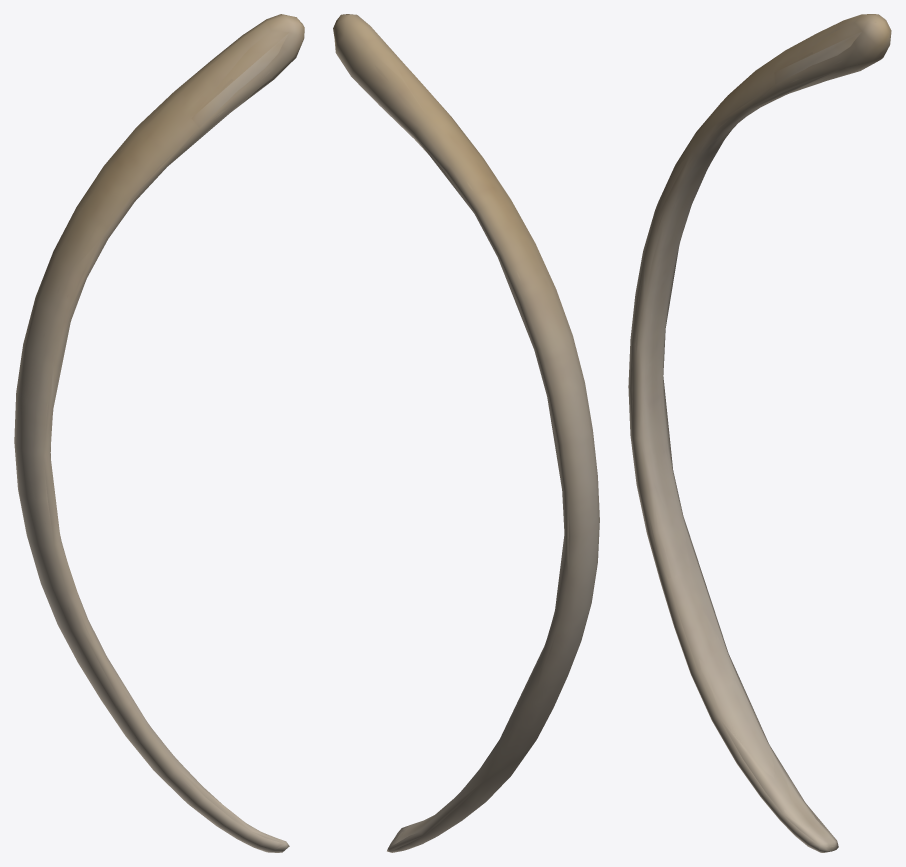
File: Rib R03.fbx
The picture shows the model from 3 angles, left to right: view 1: azimuth 30°, elevation 25°; view 2: azimuth 150°, elevation 25°; view 3: azimuth 330°, elevation 25°; orthographic projection. The views are drawn at different scales.
Parts seen in each view (by area): view 1: Rib R03, Rib R03 low, Rib R03 high; view 2: Rib R03, Rib R03 low, Rib R03 high; view 3: Rib R03, Rib R03 low, Rib R03 high.
Boxes of the visible parts, bbox=[...] form: Rib R03: bbox=[14, 14, 304, 852]; Rib R03 low: bbox=[14, 16, 303, 851]; Rib R03 high: bbox=[21, 19, 293, 852]; Rib R03: bbox=[333, 14, 599, 852]; Rib R03 low: bbox=[334, 14, 599, 852]; Rib R03 high: bbox=[335, 31, 589, 841]; Rib R03: bbox=[628, 14, 891, 852]; Rib R03 low: bbox=[632, 15, 890, 852]; Rib R03 high: bbox=[630, 21, 883, 847].
Bounding box in the file's own units: 4.71 × 13.82 × 1.82.
Materials: 1 (1 with a texture image).
